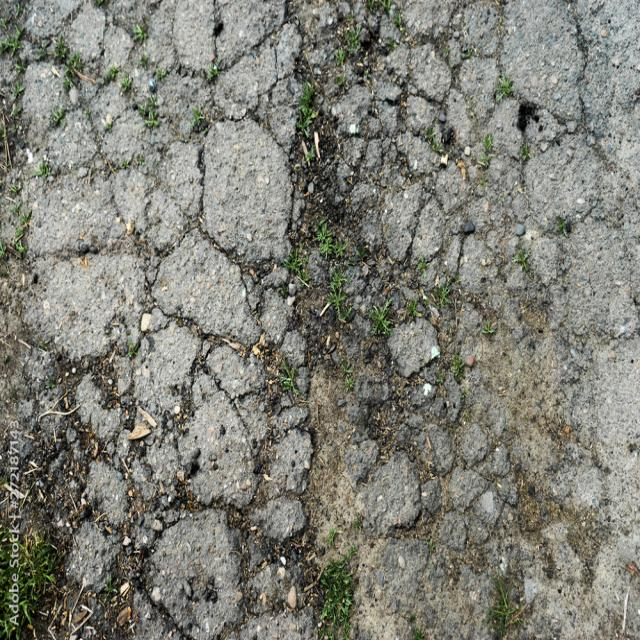Drain Hole: (6, 0, 615, 640)
